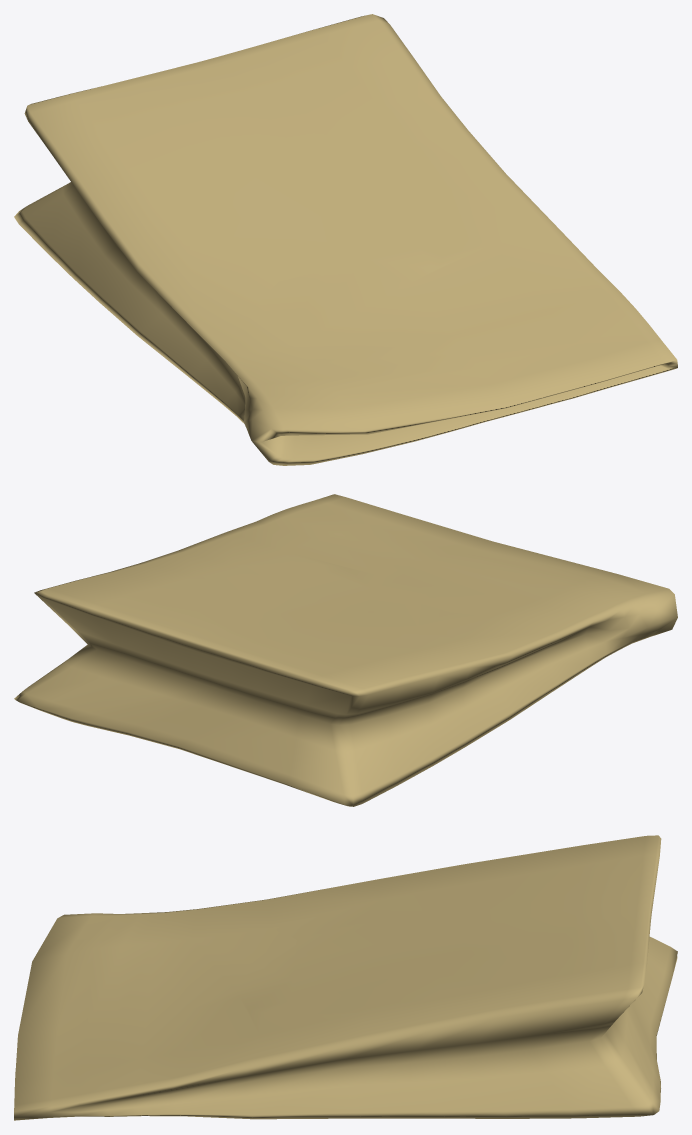
File: Fertilizer-Animated Shadow.fbx
The picture shows the model from 3 angles, top to bottom: view 1: azimuth 30°, elevation 25°; view 2: azimuth 150°, elevation 25°; view 3: azimuth 270°, elevation 25°; orthographic projection. The views are drawn at different scales.
Visible parts, largest first — view 1: Fertilizer-Animated Shadow; view 2: Fertilizer-Animated Shadow; view 3: Fertilizer-Animated Shadow.
Part boxes in pixels (x1,y1,x2,y2): Fertilizer-Animated Shadow: (14, 14, 677, 465); Fertilizer-Animated Shadow: (14, 494, 677, 806); Fertilizer-Animated Shadow: (14, 835, 677, 1120).
Bounding box in the file's own units: 8.01 × 2.83 × 10.76.
